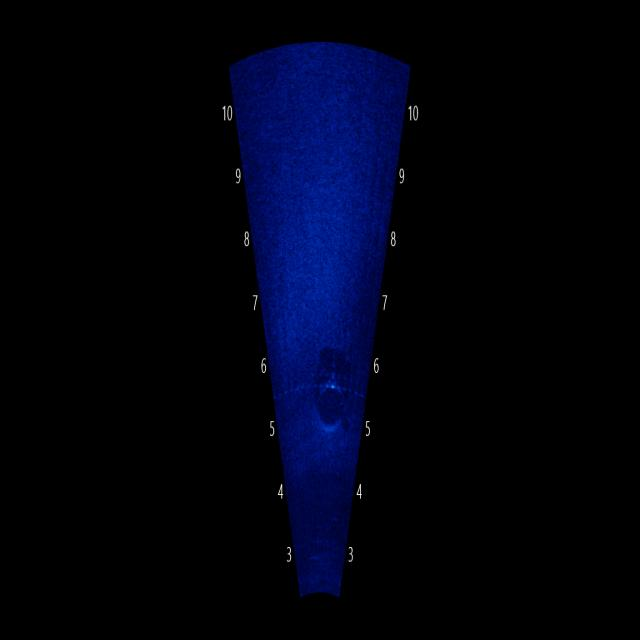circle: (310, 372, 350, 445)
